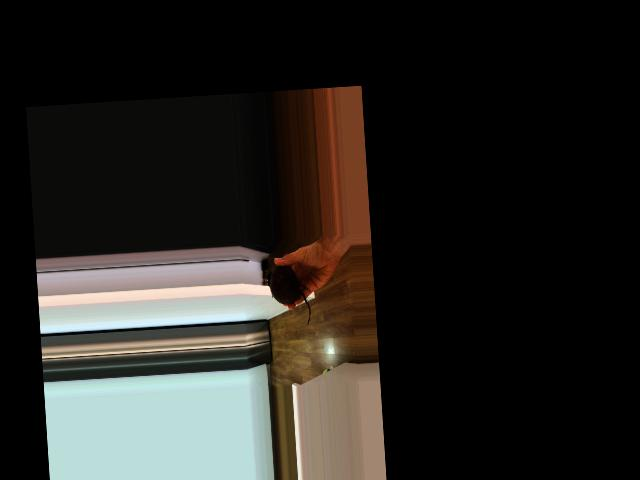beet: (266, 264, 311, 327)
